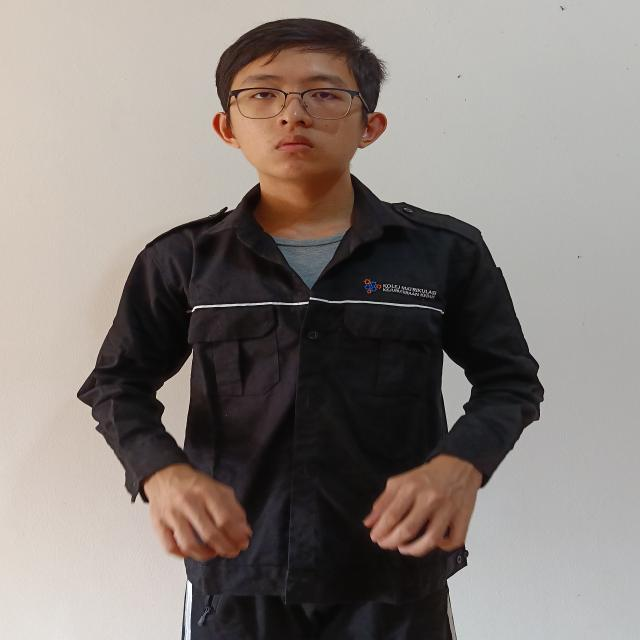person_with_labcoat: (79, 19, 543, 640)
